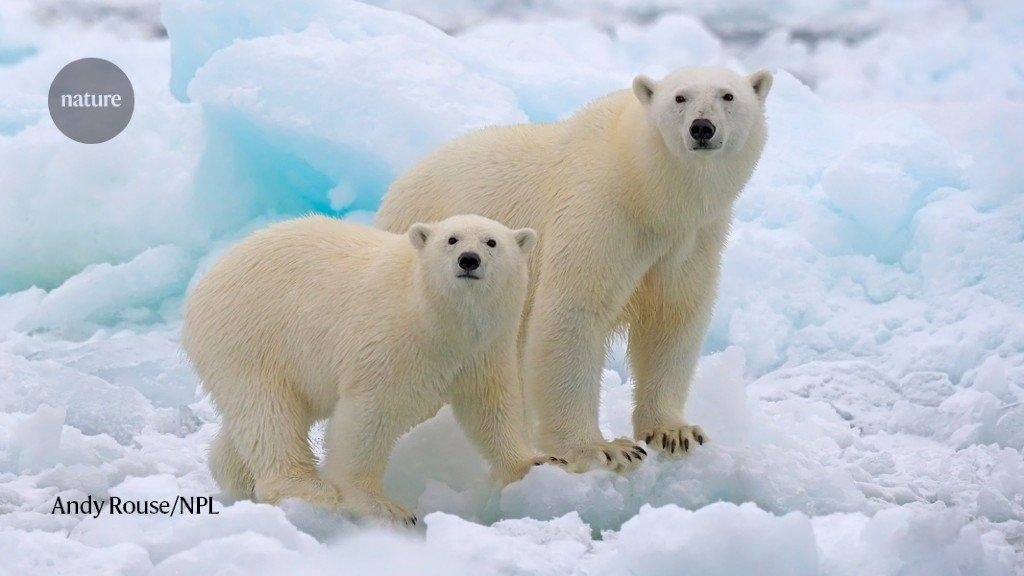bear: (378, 67, 771, 476), (179, 214, 565, 522)
